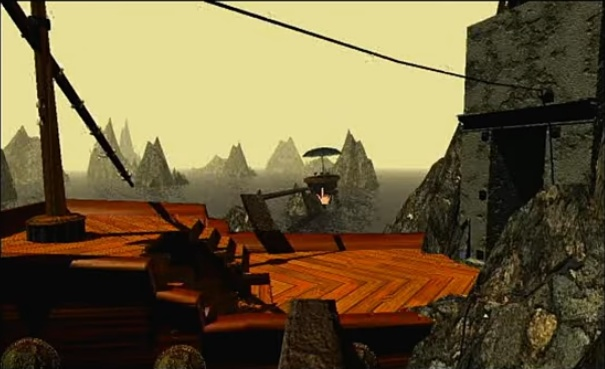Pointer: (313, 184, 335, 206)
